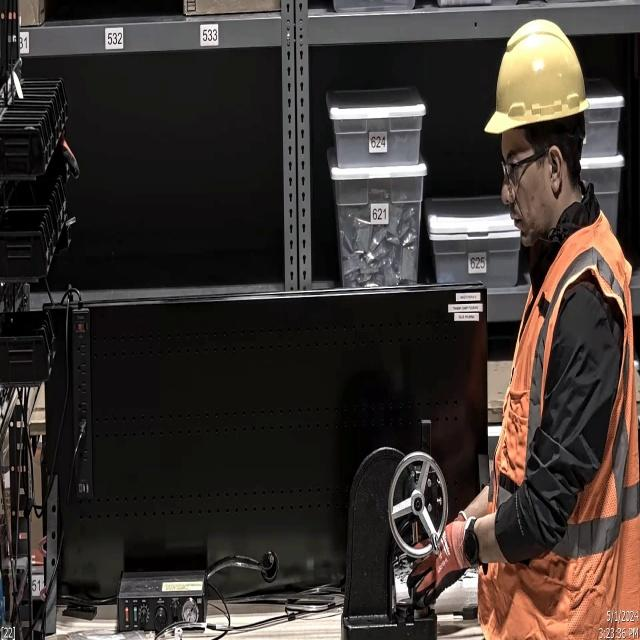construction-gloves: (409, 522, 466, 607)
